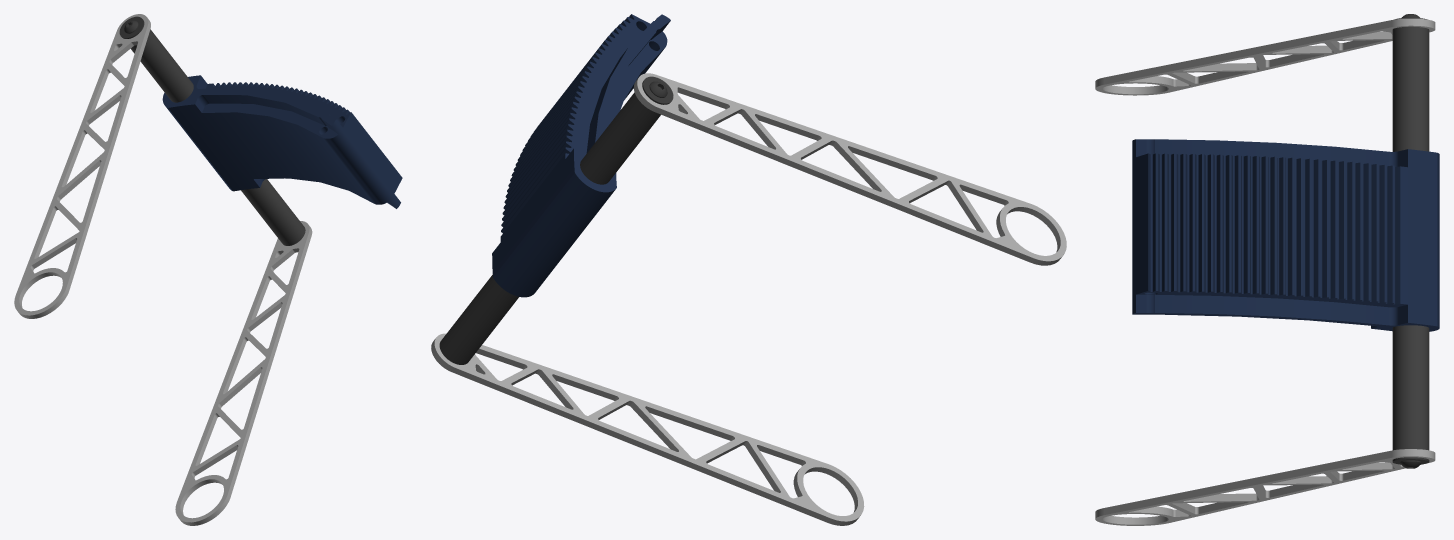
The picture shows the model from 3 angles, left to right: view 1: azimuth 30°, elevation 25°; view 2: azimuth 150°, elevation 25°; view 3: azimuth 270°, elevation 25°; orthographic projection. The views are drawn at different scales.
Parts seen in each view (by area): view 1: W26-ST-3DP002, W26-ST-P012 (×2), 1/2" Hex Bore Custom Spacer (0.625" OD,2.147" L) (×2); view 2: W26-ST-P012 (×2), W26-ST-3DP002, 1/2" Hex Bore Custom Spacer (0.625" OD,2.147" L) (×2); view 3: W26-ST-3DP002, W26-ST-P012 (×2), 1/2" Hex Bore Custom Spacer (0.625" OD,2.147" L) (×2).
Boxes of the visible parts, x1,y1,x2,y2 form: W26-ST-3DP002: (162, 75, 402, 208); W26-ST-P012 (×2): (14, 14, 312, 525); 1/2" Hex Bore Custom Spacer (0.625" OD,2.147" L) (×2): (130, 29, 305, 245); W26-ST-P012 (×2): (431, 73, 1066, 525); W26-ST-3DP002: (492, 14, 670, 297); 1/2" Hex Bore Custom Spacer (0.625" OD,2.147" L) (×2): (439, 92, 660, 364); W26-ST-3DP002: (1132, 139, 1439, 331); W26-ST-P012 (×2): (1095, 18, 1435, 525); 1/2" Hex Bore Custom Spacer (0.625" OD,2.147" L) (×2): (1392, 26, 1429, 450).
Size of the model in its own units: 0.26 by 0.2619 by 0.1486.
